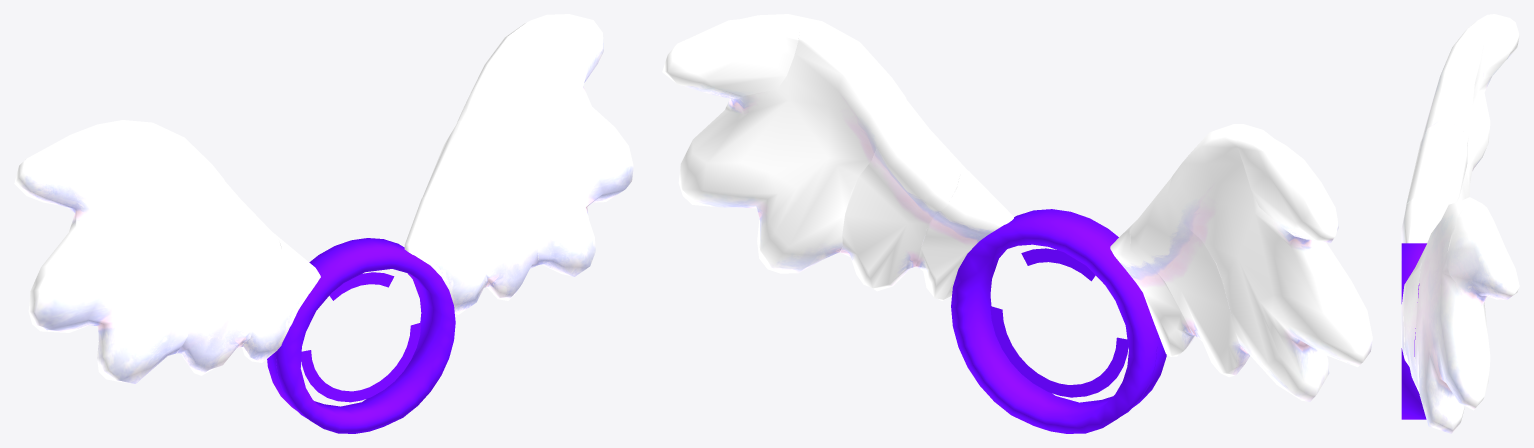
The model's file is violetBalloon.glb.
3 views of the same model, side by side, from view 1: azimuth 30°, elevation 25°; view 2: azimuth 150°, elevation 25°; view 3: azimuth 270°, elevation 25° (orthographic). The views are drawn at different scales.
Parts seen in each view (by area): view 1: WingLP.001, Hoop, Animation; view 2: WingLP.001, Hoop, Animation; view 3: WingLP.001, Hoop.
Boxes of the visible parts, x1,y1,x2,y2 form: WingLP.001: [14, 14, 633, 383]; Hoop: [267, 238, 455, 433]; Animation: [276, 272, 421, 417]; WingLP.001: [662, 14, 1372, 401]; Hoop: [951, 209, 1166, 433]; Animation: [990, 248, 1157, 415]; WingLP.001: [1401, 14, 1519, 433]; Hoop: [1401, 243, 1426, 419].
Size of what is drawn, in the model's own units: 10.35 by 5.48 by 1.98.
3 materials, 3 textured.
